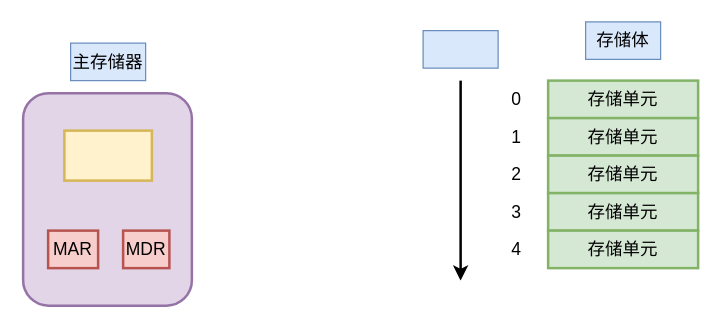
Image size: 720x329. Some labels were removed from this diagram. The shapes that lost their labels are listed below. From the top down, each one's centre as x and y in pixels, then its label:
At (x=460, y=48): "地址".
At (x=107, y=155): "存储器".
